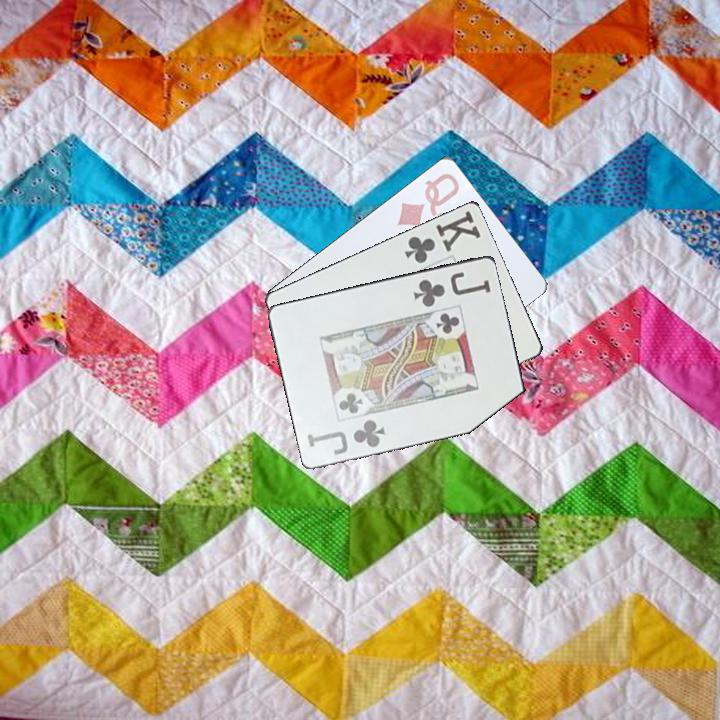Jc: (410, 267, 494, 310), (304, 415, 389, 457)
Kc: (401, 207, 484, 266)
Qd: (393, 169, 463, 229)
